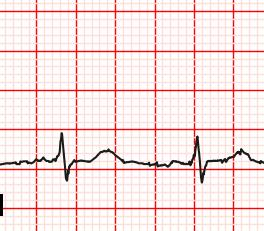LVH: (86, 141, 135, 167)
Poor R Progression: (52, 130, 70, 165), (190, 134, 202, 168)
ST Depression: (189, 156, 213, 190), (53, 154, 78, 185)
